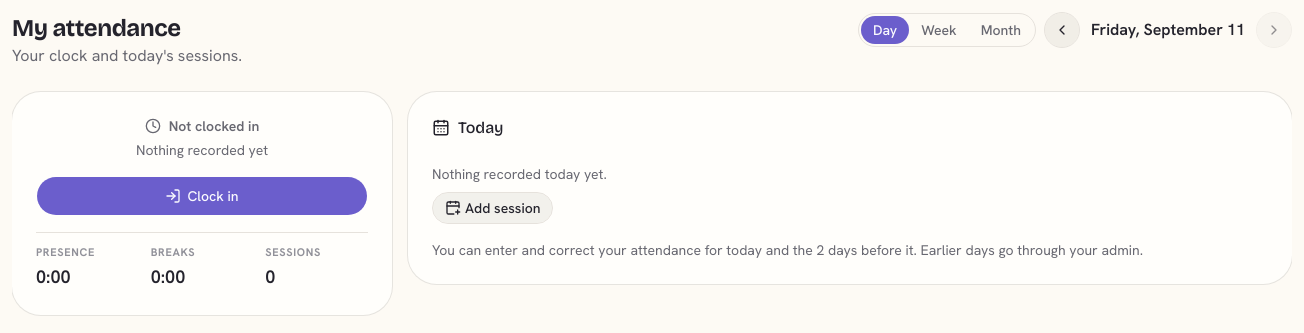
Test case: MyAttendanceScreen › a day and the self-service window › entering a session › hides Add session on a day outside the window
The image size is (1304, 333).
Click the button named "Previous" at x=1062, y=30, box [1044,12,1080,48]
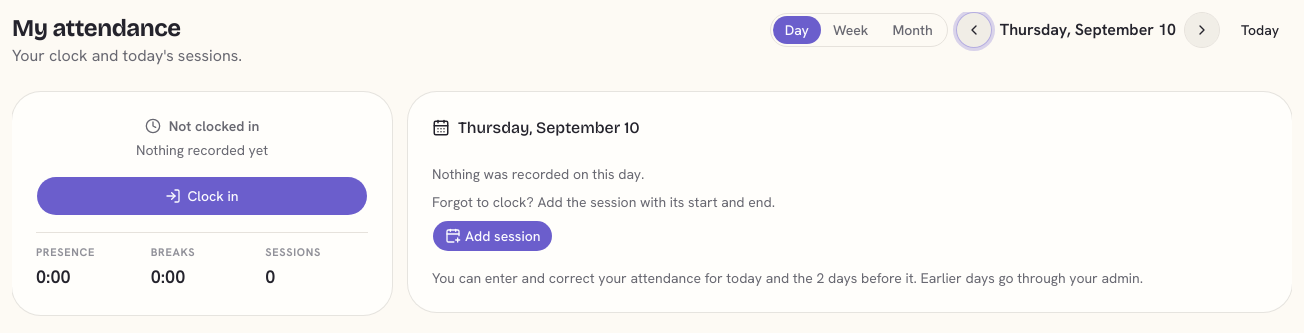
Click the button named "Previous" at x=974, y=30, box [956,12,992,48]
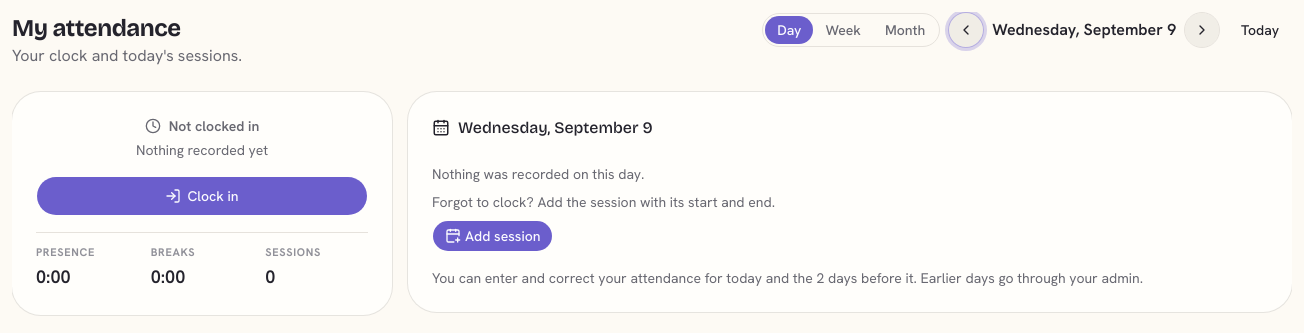
Click the button named "Previous" at x=966, y=30, box [948,12,984,48]
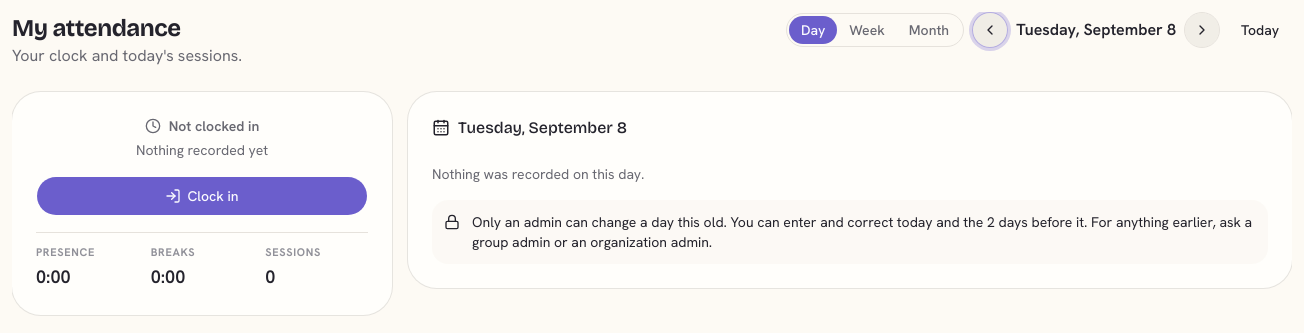
expect the button "Add session" is gone: met
